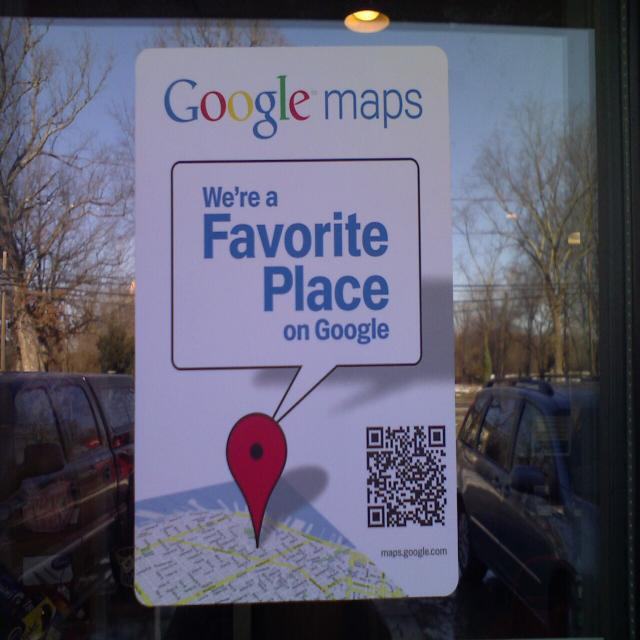qr-code: (366, 426, 446, 526)
